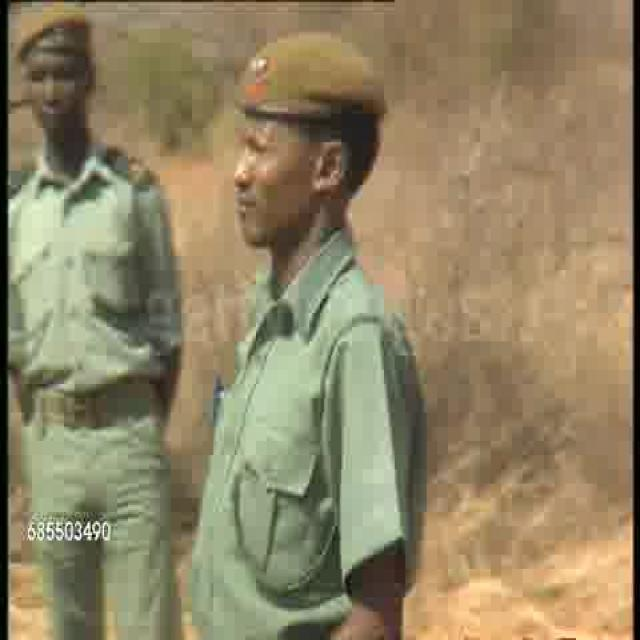poacher: (176, 14, 440, 608), (2, 1, 190, 526)
